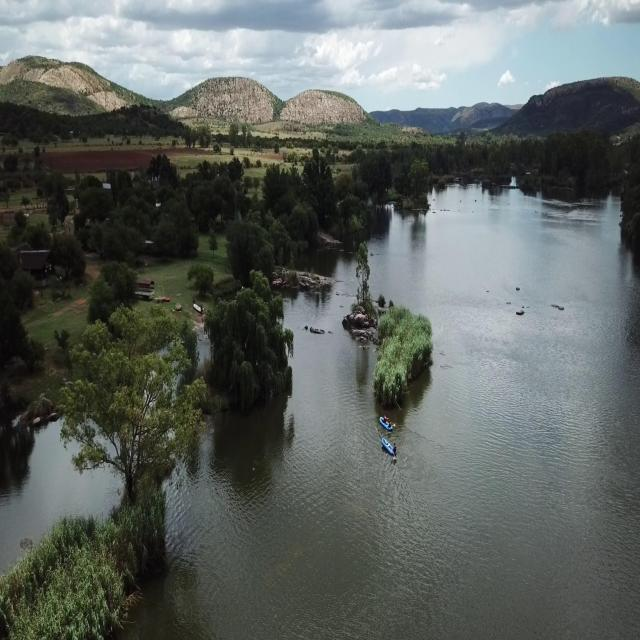kayak: (378, 411, 398, 434), (382, 434, 398, 459)
